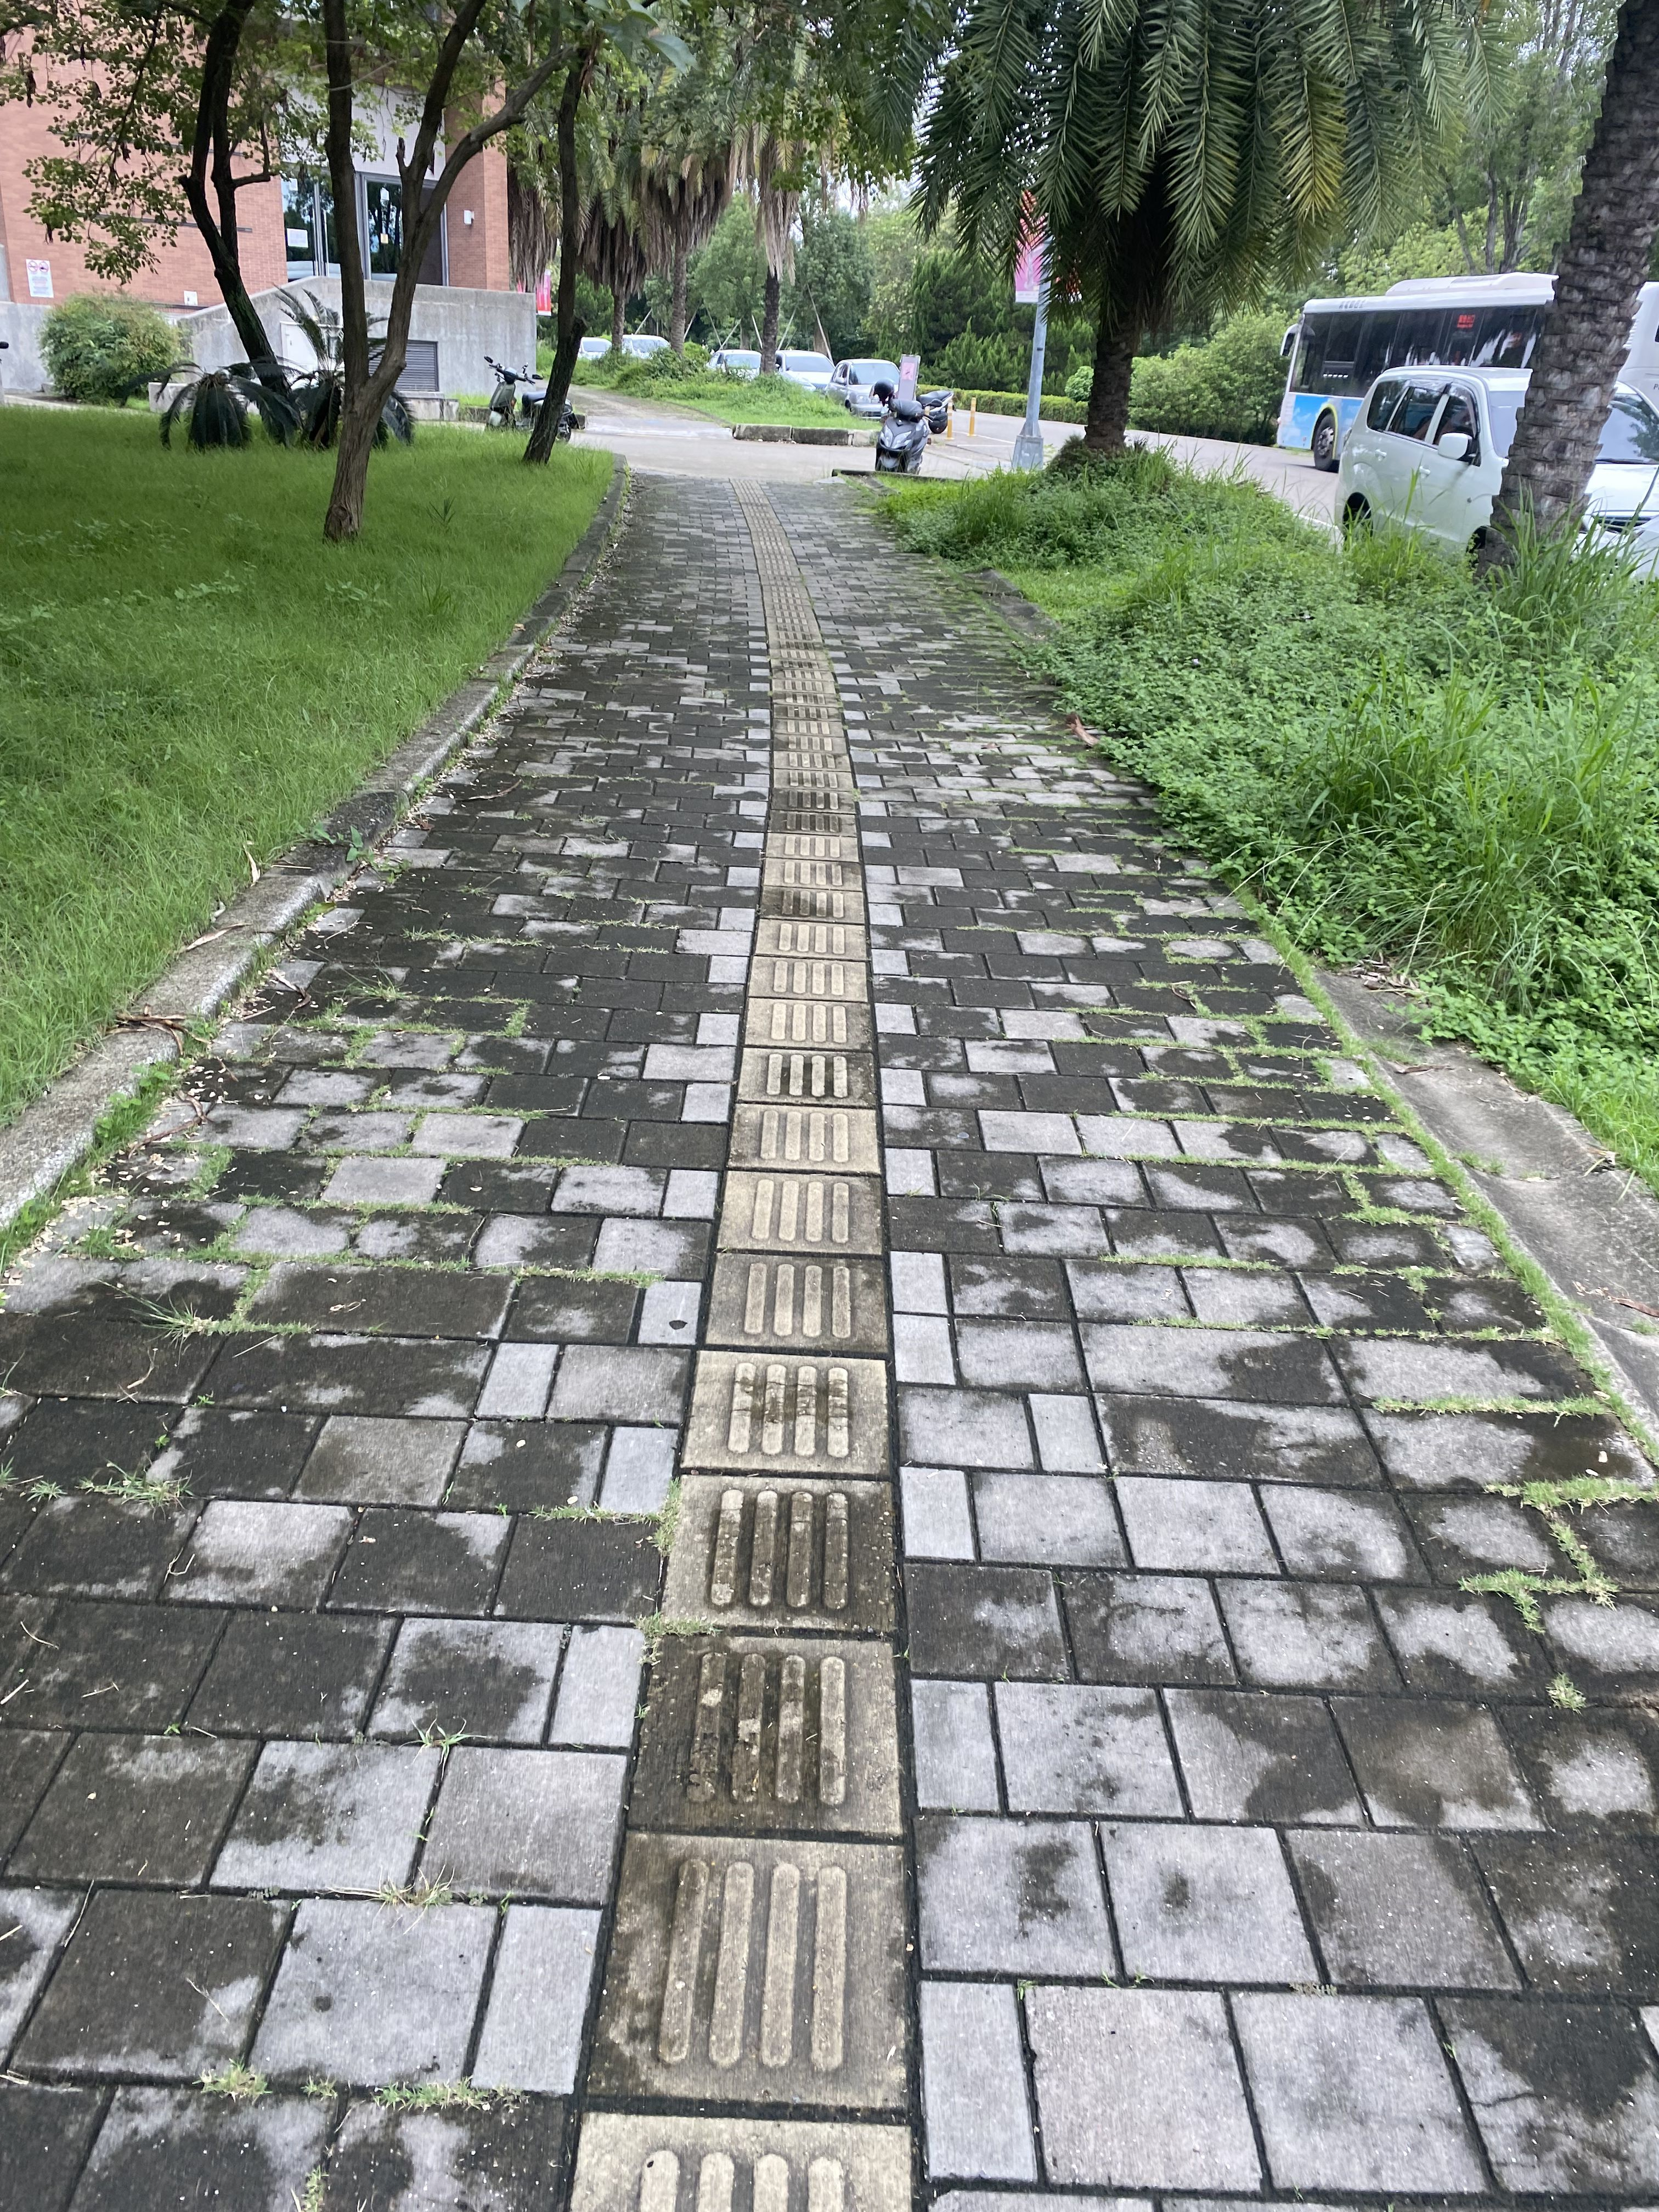sidewalk: (0, 479, 1659, 2212)
